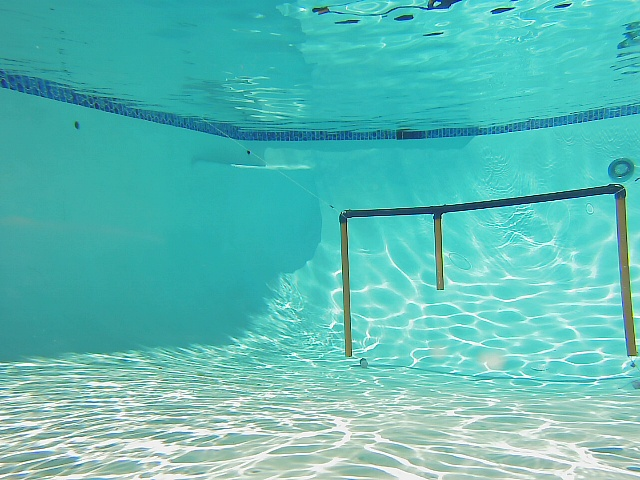Gate: (335, 180, 640, 362)
